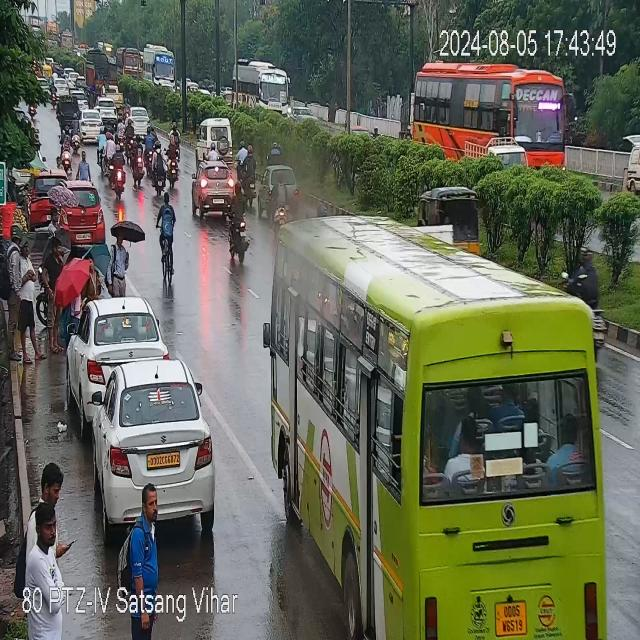2-wheelers: (576, 242, 606, 358), (146, 115, 182, 197), (226, 180, 252, 262), (160, 192, 176, 290), (124, 105, 152, 136), (110, 115, 136, 147), (244, 146, 258, 204), (97, 125, 120, 160), (112, 141, 126, 196), (274, 172, 286, 228), (141, 128, 157, 162), (60, 126, 72, 169), (71, 112, 80, 150), (236, 137, 246, 168), (207, 140, 219, 160), (50, 80, 57, 108), (270, 141, 278, 161)
auto: (423, 186, 485, 245), (59, 92, 80, 128)
bus: (267, 201, 624, 640), (403, 52, 566, 160), (235, 58, 289, 108), (146, 45, 177, 92)
car: (92, 360, 218, 526), (69, 295, 162, 400), (192, 160, 240, 217), (71, 178, 104, 246), (25, 169, 49, 231), (79, 112, 104, 144), (258, 166, 272, 218), (97, 98, 120, 120), (57, 78, 68, 97)
pedestrian: (30, 456, 73, 549), (134, 483, 164, 585), (8, 225, 22, 359), (22, 236, 36, 362), (49, 231, 61, 358), (74, 253, 99, 308), (112, 235, 130, 291), (49, 204, 61, 236), (77, 149, 89, 178), (54, 157, 64, 173)
truck: (87, 43, 121, 93)
